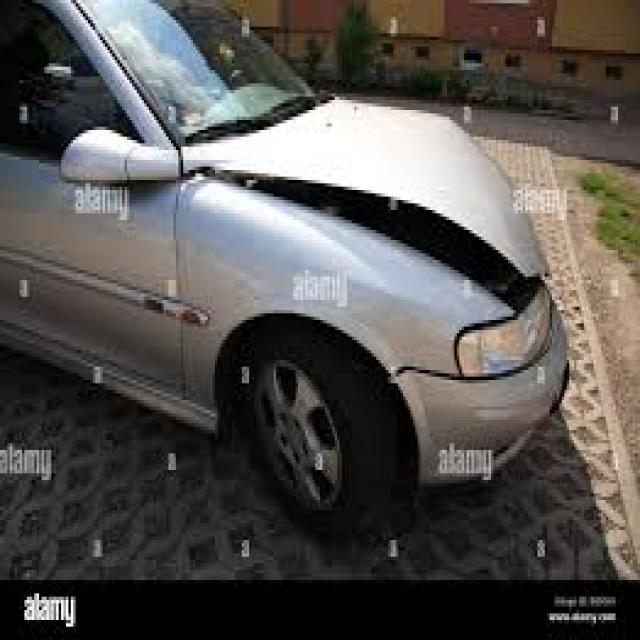moderate: (210, 104, 544, 323)
